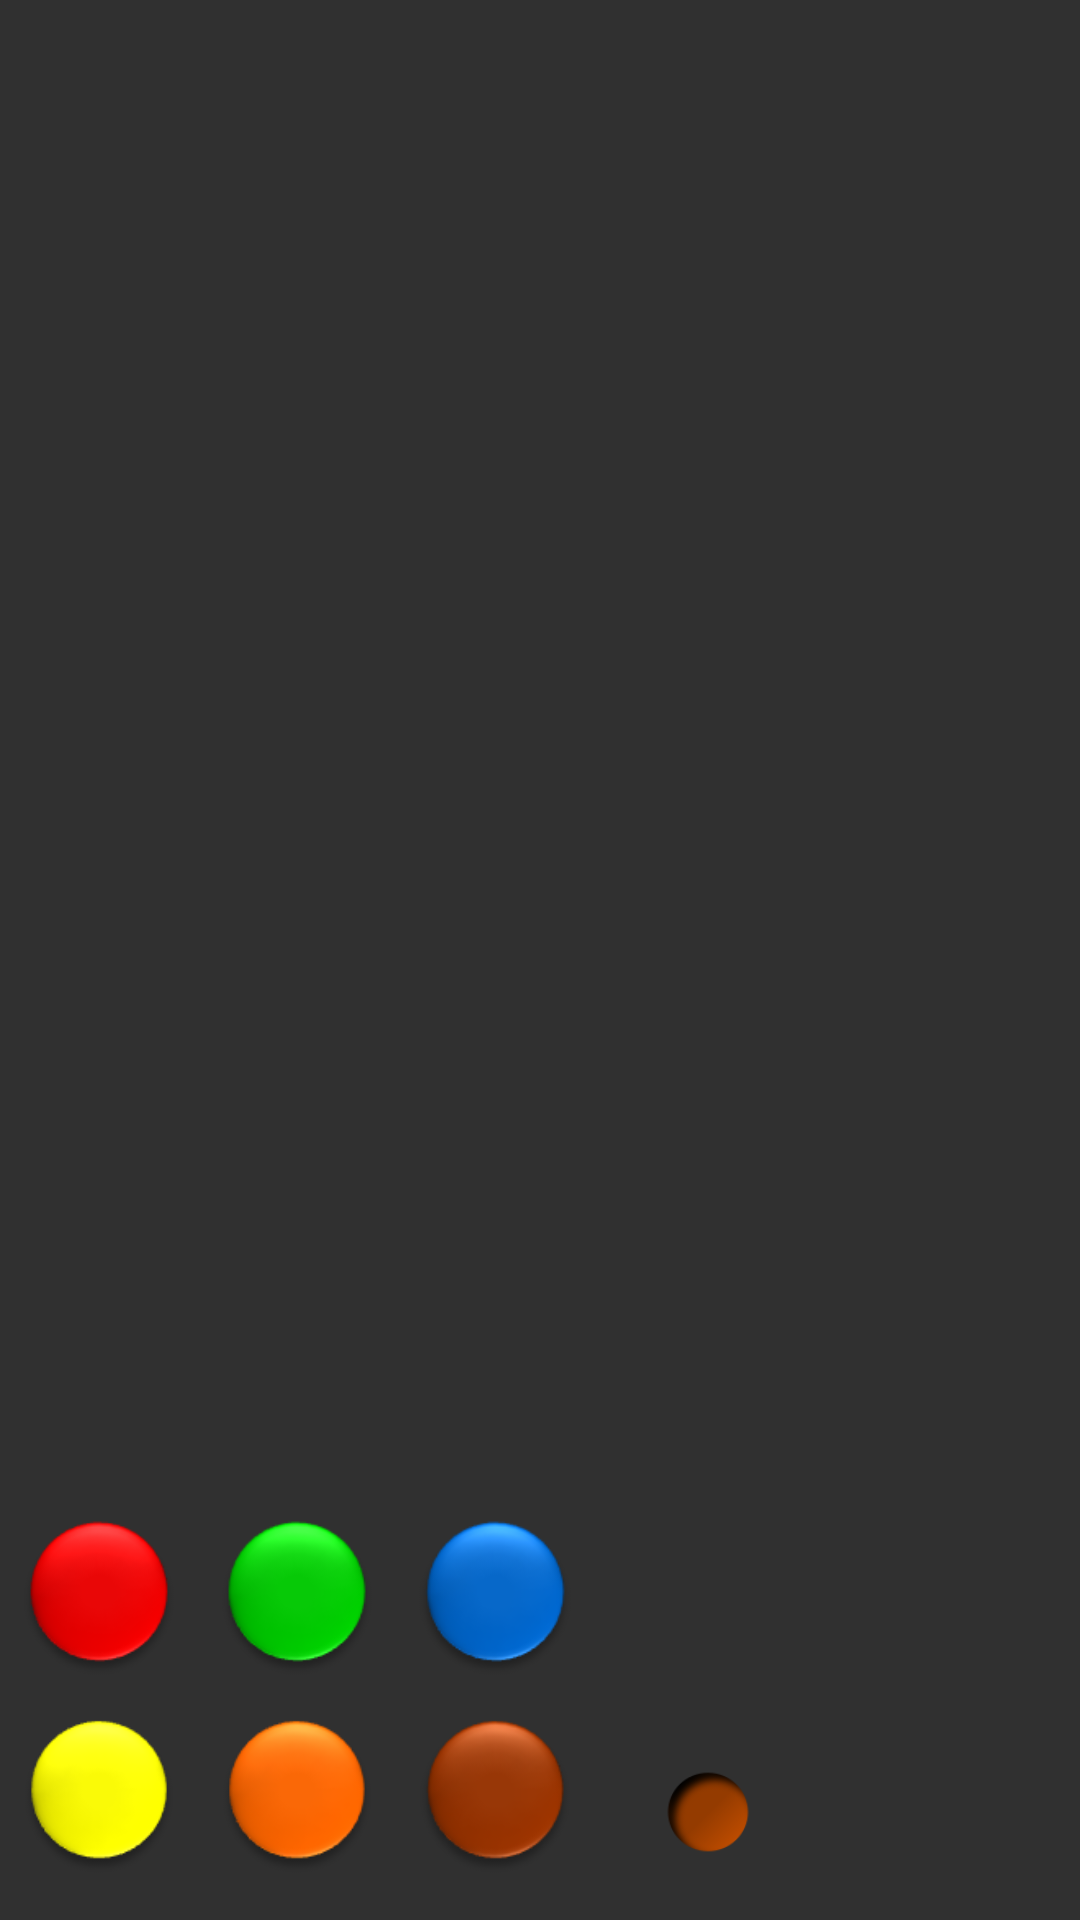

Locate icon controls on the screen. Image size 1080x1920, boxes as Rect(x1, y1, x2, y2).
Blue: Rect(427, 1521, 564, 1661)
Brown: Rect(428, 1721, 563, 1858)
Green: Rect(228, 1521, 366, 1661)
Orange: Rect(229, 1721, 365, 1859)
Red: Rect(30, 1521, 168, 1661)
Yellow: Rect(31, 1721, 167, 1859)
